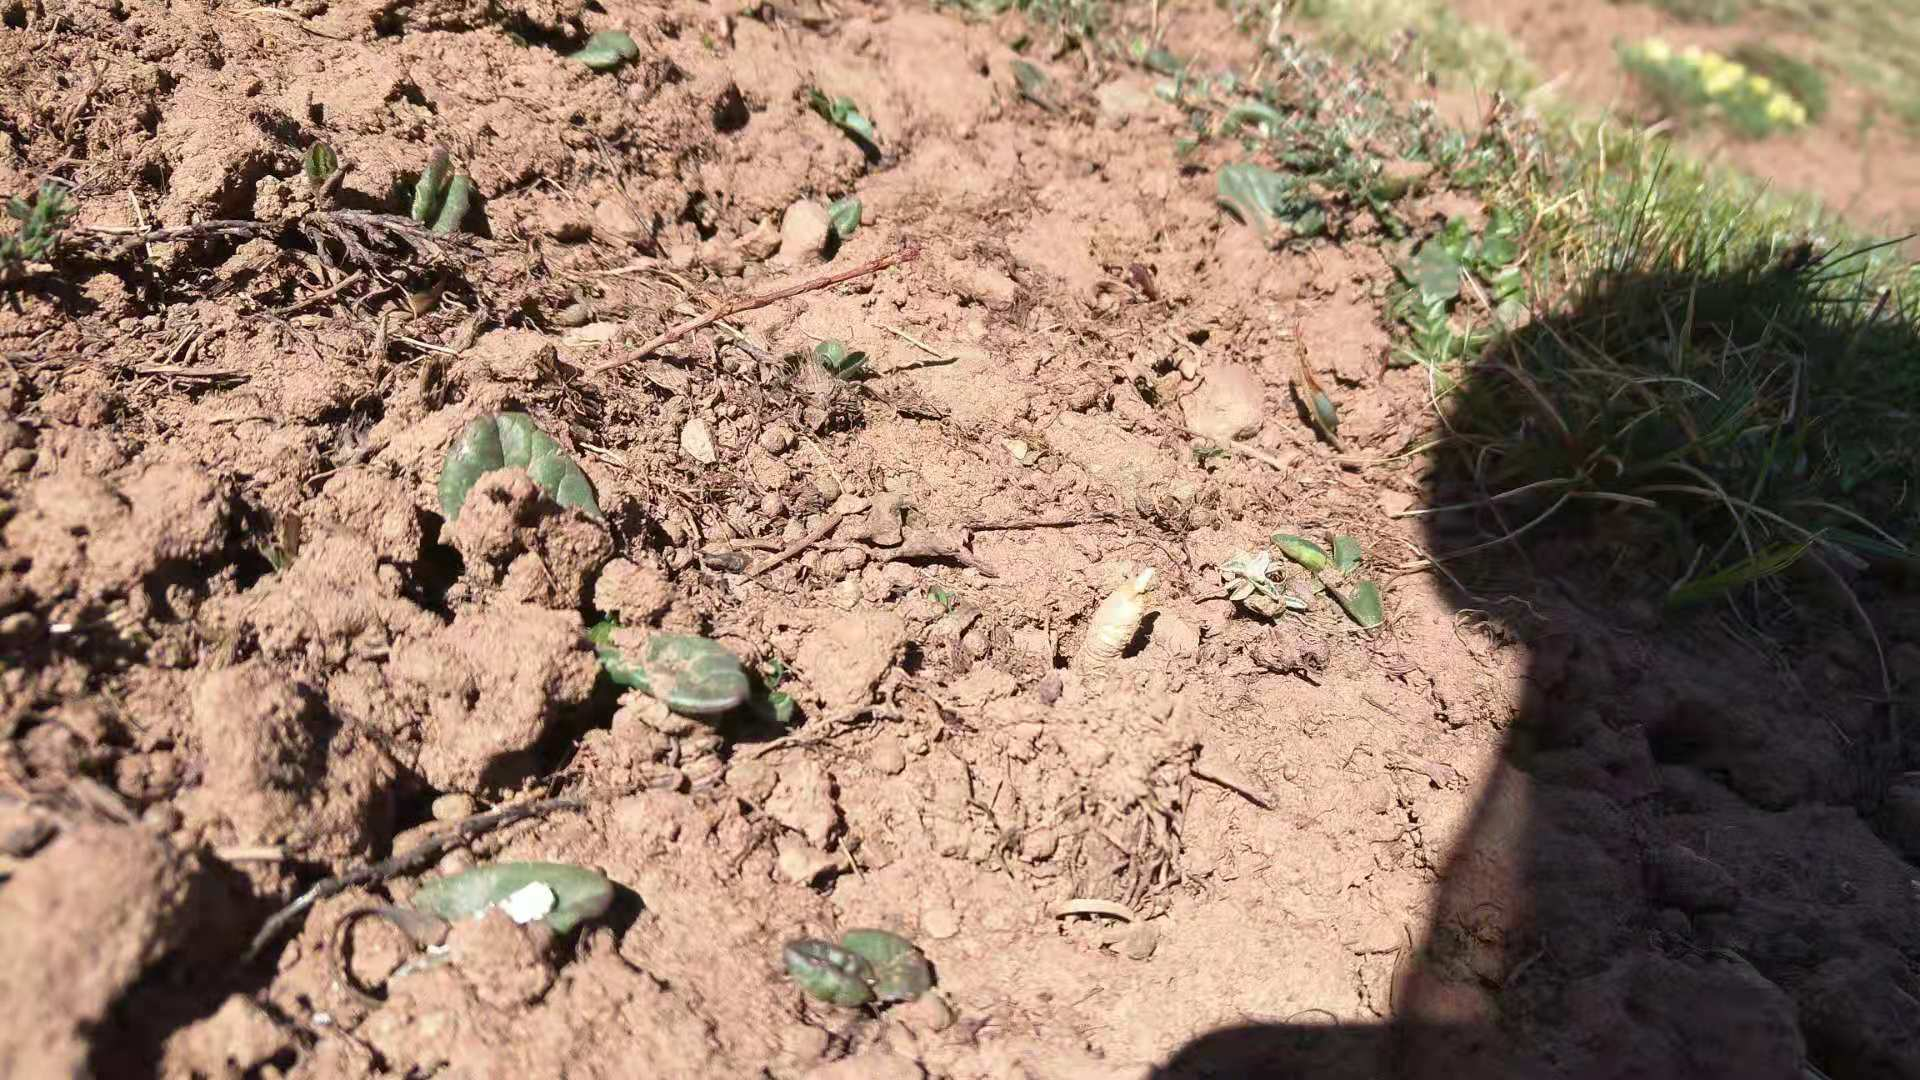cpf: (1081, 570, 1155, 670)
